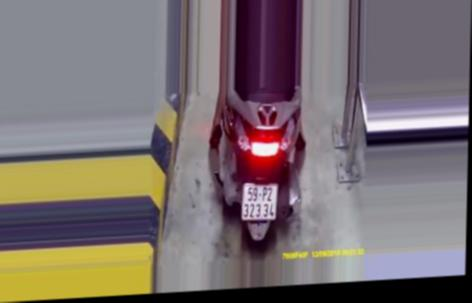License_Plate: (237, 181, 283, 223)
